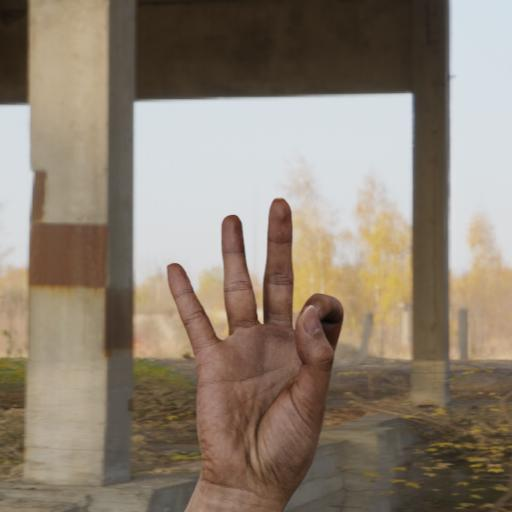F: (166, 193, 346, 495)
